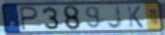3: (41, 6, 60, 31)
8: (63, 5, 81, 32)
9: (85, 6, 102, 30)
J: (106, 5, 124, 30)
K: (126, 5, 145, 29)
P: (19, 6, 40, 32)
